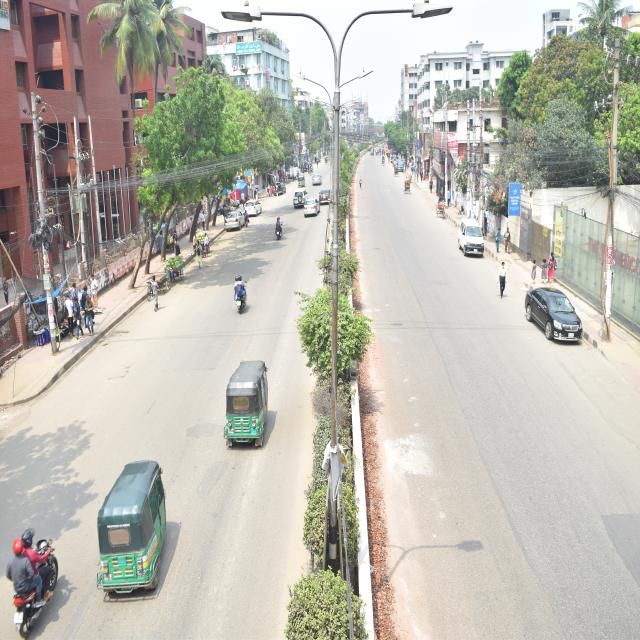car: (510, 263, 640, 382), (440, 213, 498, 270), (303, 195, 331, 232), (218, 202, 246, 232), (240, 196, 265, 222), (315, 184, 338, 211), (290, 182, 309, 214), (312, 168, 324, 198)
motorbike: (0, 526, 62, 640), (223, 256, 260, 348), (271, 209, 294, 268)
